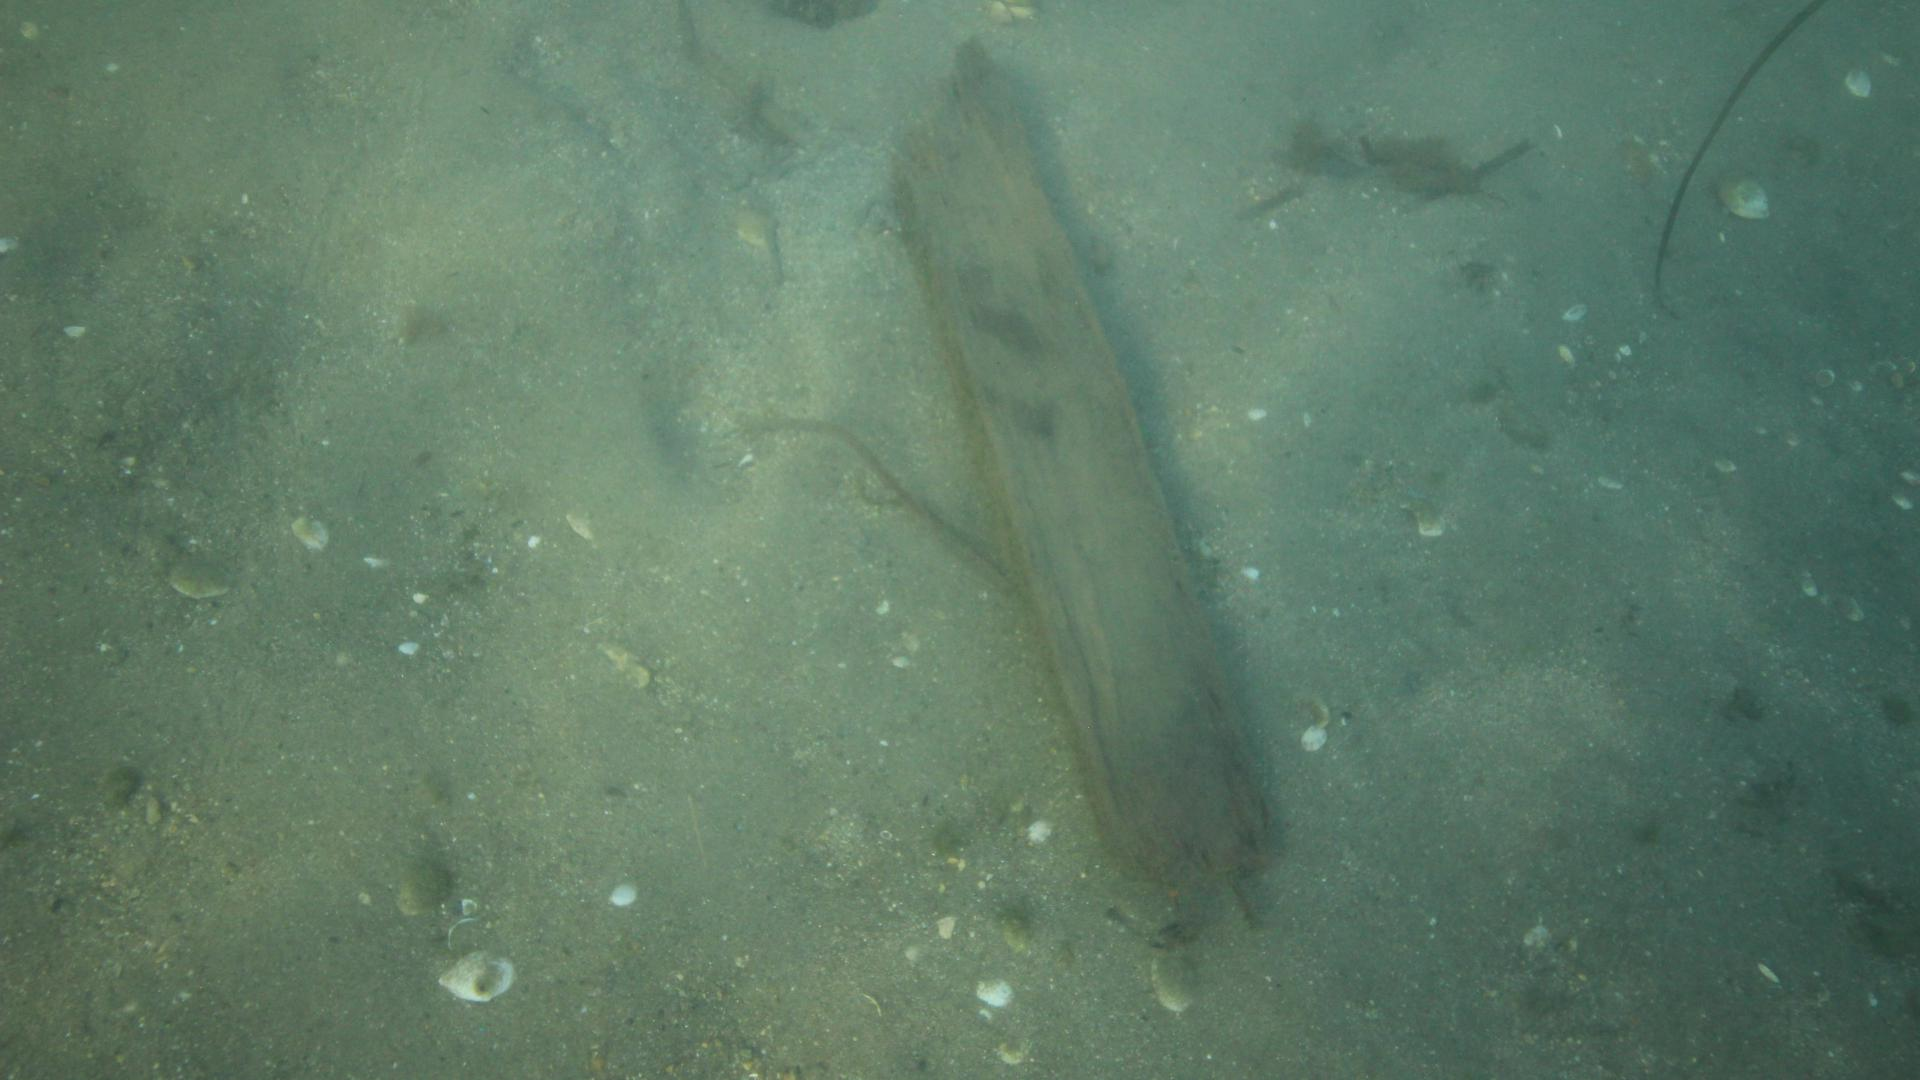wood: (887, 34, 1274, 887)
